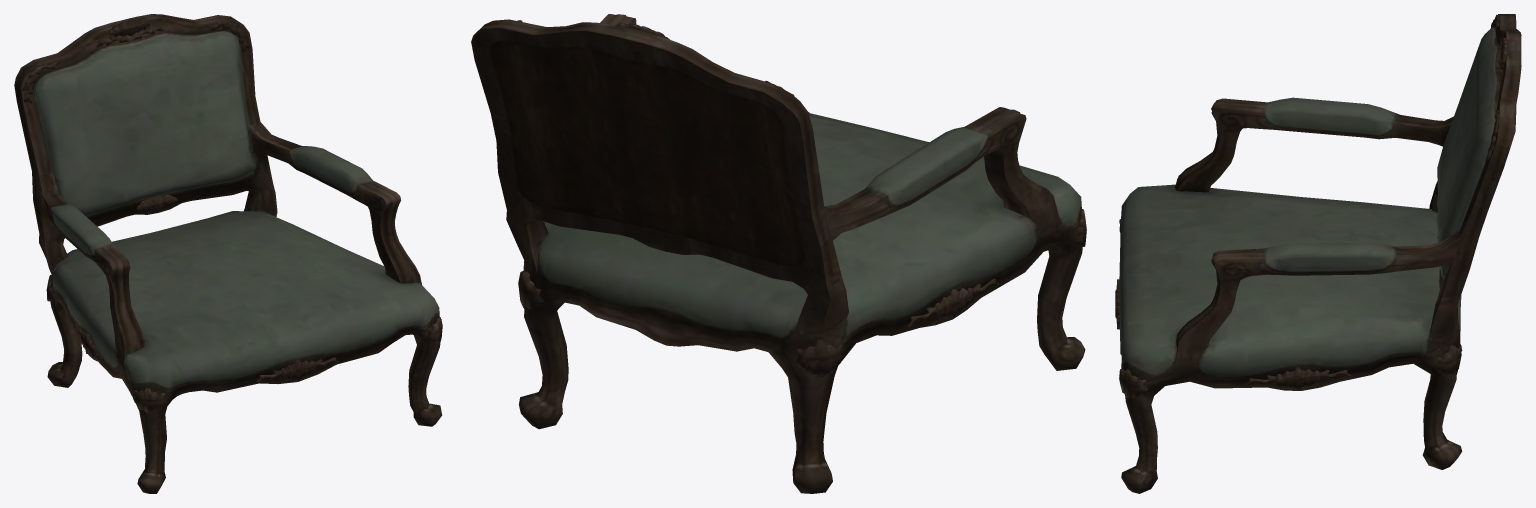
Rendered from ph-greenchair-01.glb.
3 views of the same model, side by side, from view 1: azimuth 30°, elevation 25°; view 2: azimuth 150°, elevation 25°; view 3: azimuth 270°, elevation 25° (orthographic). The views are drawn at different scales.
Visible parts, largest first — view 1: GreenChair_01; view 2: GreenChair_01; view 3: GreenChair_01.
Part boxes in pixels (x1=…): GreenChair_01: x1=14, y1=14, x2=442, y2=493; GreenChair_01: x1=471, y1=14, x2=1086, y2=493; GreenChair_01: x1=1115, y1=14, x2=1521, y2=493.
Size of the model in its own units: 1 by 1 by 1.
1 material, 1 textured.
